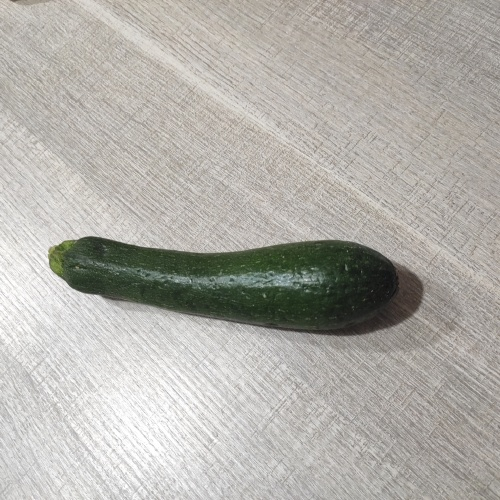zucchine: (43, 230, 408, 343)
